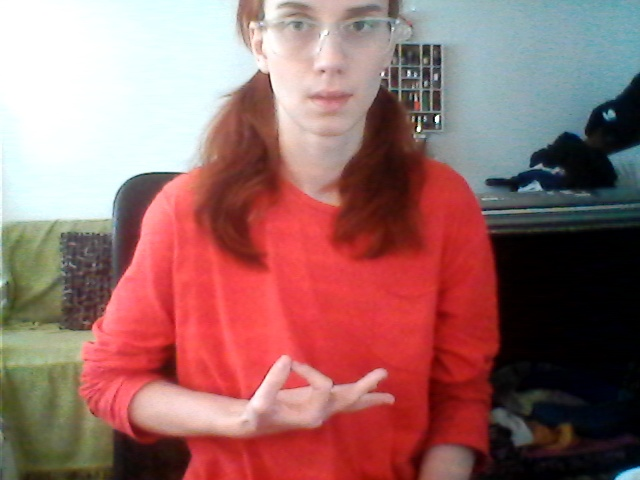co: (235, 338, 399, 450)
